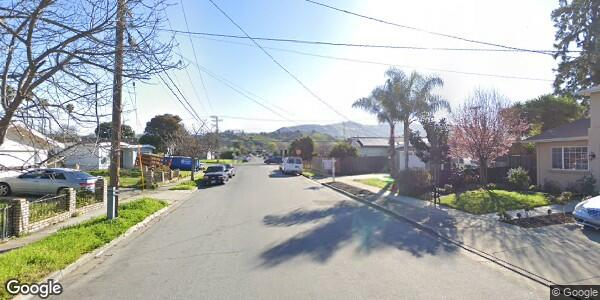Wood_Pole: (104, 1, 129, 223)
